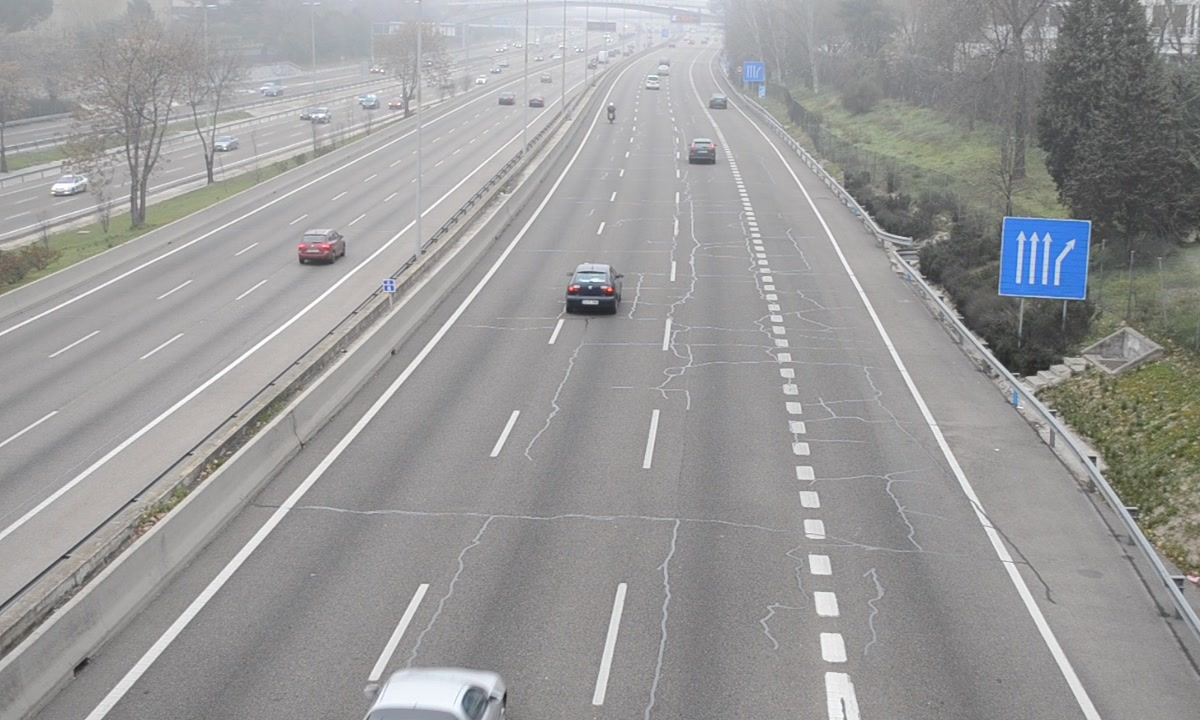car: (565, 264, 623, 316), (689, 137, 717, 166)
motorcycle: (607, 101, 617, 125)
